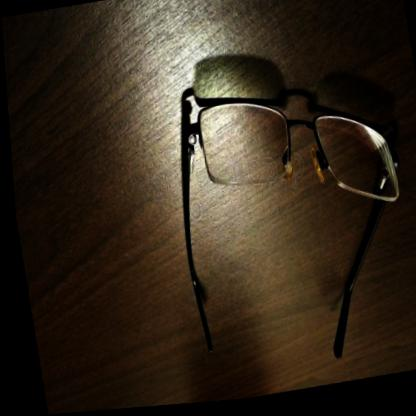Spectacles: (173, 73, 404, 243)
